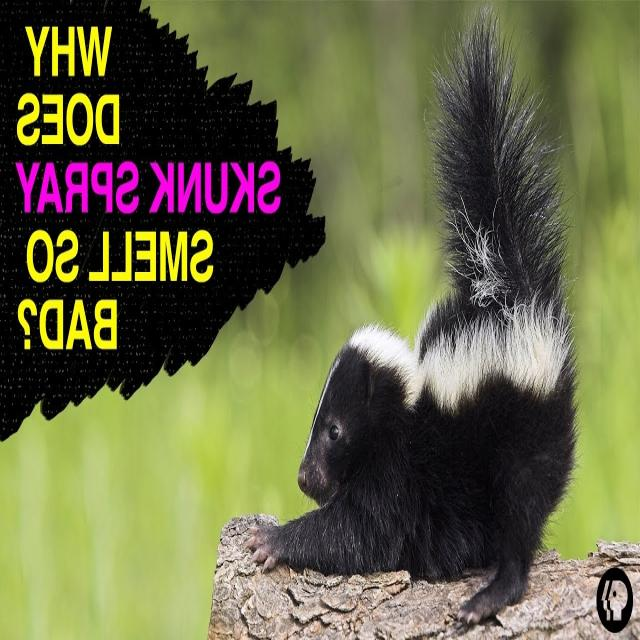Skunk: (270, 56, 580, 607)
